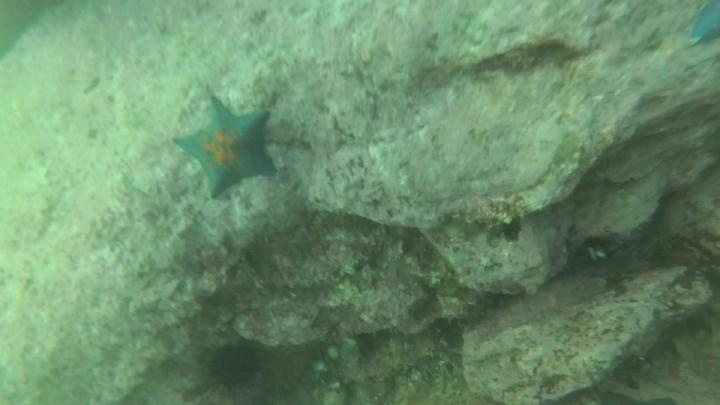echinus: (199, 337, 266, 393)
starfish: (171, 95, 281, 201), (684, 0, 720, 51)
